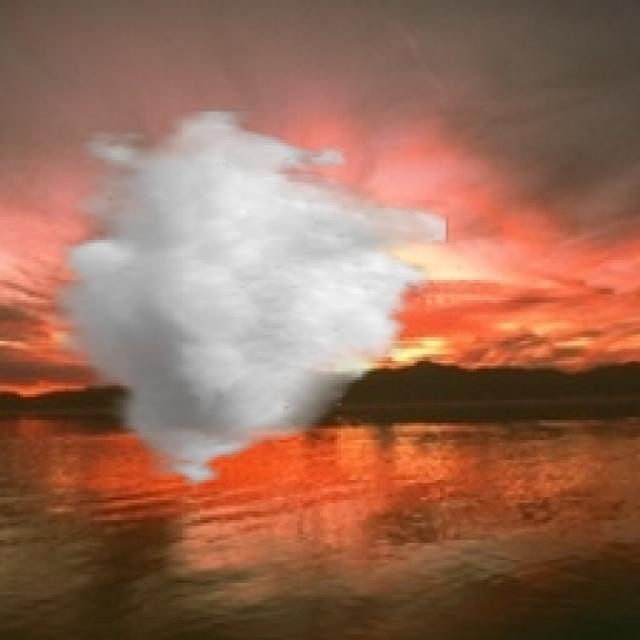smoke: (46, 109, 448, 494)
